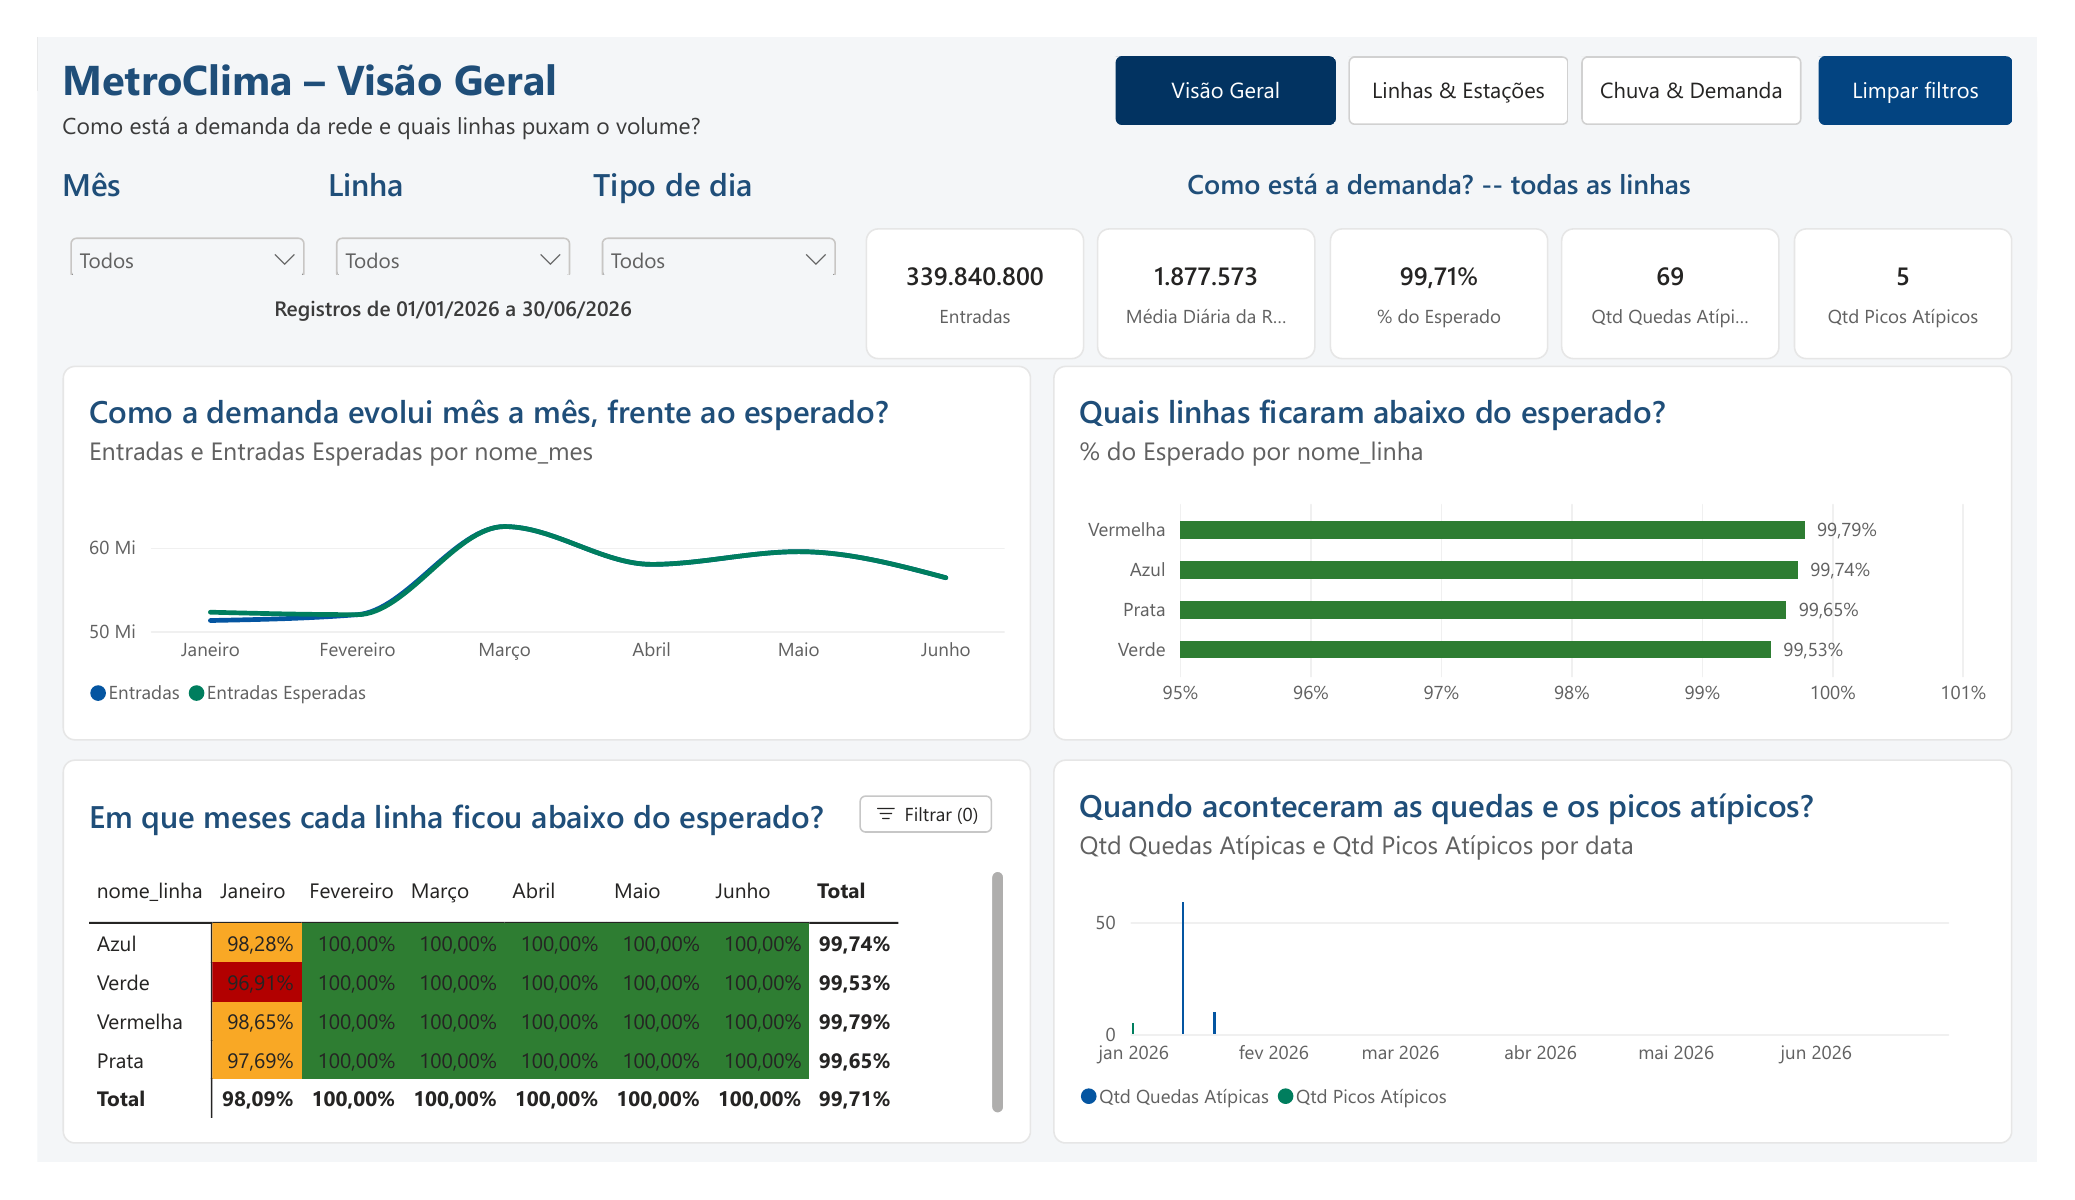

This screenshot's page, from the dashboard's own definition file:
{"tool":"powerbi","page":{"name":"Visão Geral","canvas":[1280,720],"ordinal":0},"visuals":[{"type":"textbox","box":[16,8,640,40],"z":0},{"type":"textbox","box":[16,46,640,28],"z":1000},{"type":"pageNavigator","box":[690,12,440,44],"z":2000},{"type":"actionButton","box":[1140,12,124,44],"z":3000},{"type":"slicer","title":"Mês","fields":{"Values":["dim_tempo.nome_mes"]},"box":[16,80,160,72],"z":4000},{"type":"slicer","title":"Linha","fields":{"Values":["dim_estacao.nome_linha"]},"box":[186,80,160,72],"z":5000},{"type":"slicer","title":"Tipo de dia","fields":{"Values":["fato_entradas.tipo_dia"]},"box":[356,80,160,72],"z":6000},{"type":"card","fields":{"Values":["_Medidas.Título Visão Geral"]},"box":[530,72,734,50],"z":7000},{"type":"card","fields":{"Values":["_Medidas.Período Selecionado"]},"box":[16,152,500,50],"z":8000},{"type":"card","fields":{"Values":["_Medidas.Entradas"]},"box":[530,122,140,84],"z":9000},{"type":"card","fields":{"Values":["_Medidas.Média Diária da Rede"]},"box":[678,122,140,84],"z":10000},{"type":"card","fields":{"Values":["_Medidas.% do Esperado"]},"box":[827,122,140,84],"z":11000},{"type":"card","fields":{"Values":["_Medidas.Qtd Quedas Atípicas"]},"box":[975,122,140,84],"z":12000},{"type":"card","fields":{"Values":["_Medidas.Qtd Picos Atípicos"]},"box":[1124,122,140,84],"z":13000},{"type":"lineChart","title":"Como a demanda evolui mês a mês, frente ao esperado?","fields":{"Category":["dim_tempo.nome_mes","dim_tempo.data"],"Y":["_Medidas.Entradas","_Medidas.Entradas Esperadas"]},"box":[16,210,620,240],"z":14000},{"type":"clusteredBarChart","title":"Quais linhas ficaram abaixo do esperado?","fields":{"Category":["dim_estacao.nome_linha"],"Y":["_Medidas.% do Esperado"]},"box":[650,210,614,240],"z":15000},{"type":"pivotTable","title":"Em que meses cada linha ficou abaixo do esperado?","fields":{"Columns":["dim_tempo.nome_mes"],"Rows":["dim_estacao.nome_linha"],"Values":["_Medidas.% do Esperado"]},"box":[16,462,620,246],"z":16000},{"type":"columnChart","title":"Quando aconteceram as quedas e os picos atípicos?","fields":{"Category":["dim_tempo.data"],"Y":["_Medidas.Qtd Quedas Atípicas","_Medidas.Qtd Picos Atípicos"]},"box":[650,462,614,246],"z":17000}]}

Visuals, with their boxes on the page's 1280x720 design canvas (x1, y1, x2, y2). These are canvas units, not pixel positions in the 2075x1200 screenshot, which may show the page scaled, cropped or inside an application window:
textbox: <region>16, 8, 656, 48</region>
textbox: <region>16, 46, 656, 74</region>
pageNavigator: <region>690, 12, 1130, 56</region>
actionButton: <region>1140, 12, 1264, 56</region>
"Mês" slicer: <region>16, 80, 176, 152</region>
"Linha" slicer: <region>186, 80, 346, 152</region>
"Tipo de dia" slicer: <region>356, 80, 516, 152</region>
card - _Medidas.Título Visão Geral: <region>530, 72, 1264, 122</region>
card - _Medidas.Período Selecionado: <region>16, 152, 516, 202</region>
card - _Medidas.Entradas: <region>530, 122, 670, 206</region>
card - _Medidas.Média Diária da Rede: <region>678, 122, 818, 206</region>
card - _Medidas.% do Esperado: <region>827, 122, 967, 206</region>
card - _Medidas.Qtd Quedas Atípicas: <region>975, 122, 1115, 206</region>
card - _Medidas.Qtd Picos Atípicos: <region>1124, 122, 1264, 206</region>
"Como a demanda evolui mês a mês, frente ao esperado?" lineChart: <region>16, 210, 636, 450</region>
"Quais linhas ficaram abaixo do esperado?" clusteredBarChart: <region>650, 210, 1264, 450</region>
"Em que meses cada linha ficou abaixo do esperado?" pivotTable: <region>16, 462, 636, 708</region>
"Quando aconteceram as quedas e os picos atípicos?" columnChart: <region>650, 462, 1264, 708</region>
